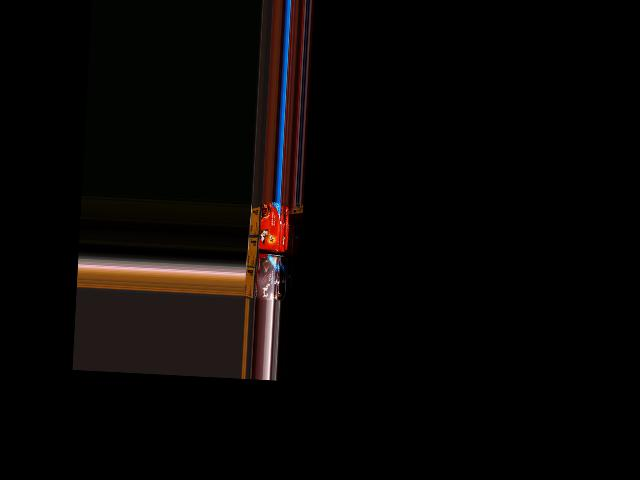chocolate: (250, 257, 279, 301)
